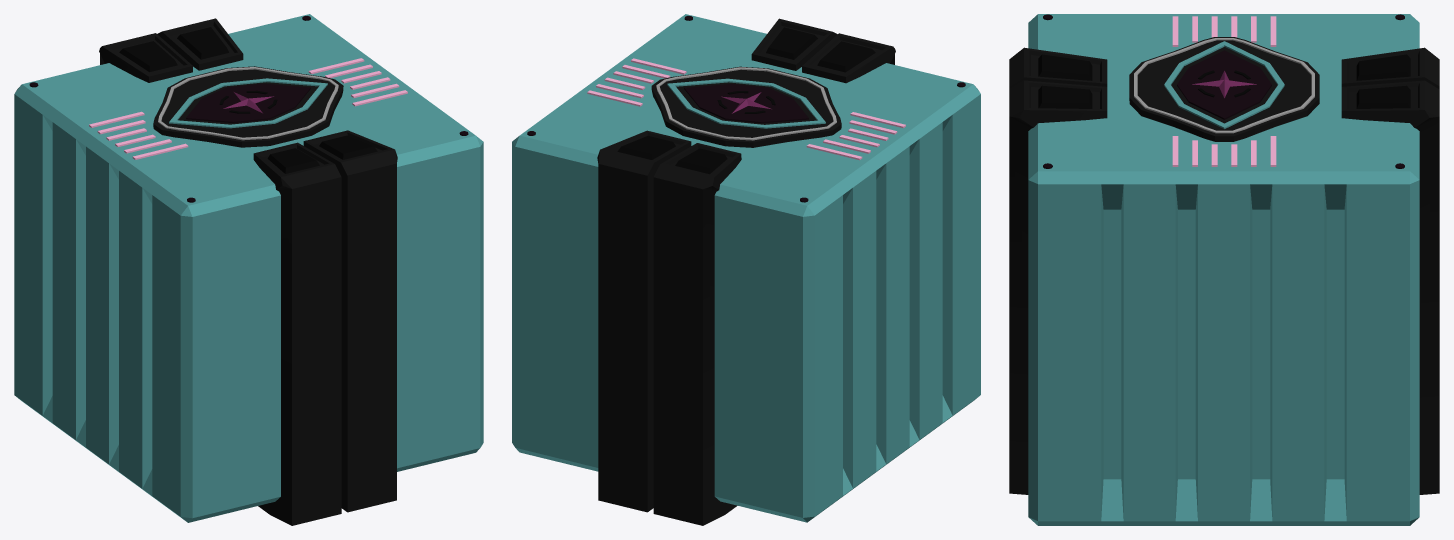
The model's file is st2_ground_plus.fbx.
The picture shows the model from 3 angles, left to right: view 1: azimuth 30°, elevation 25°; view 2: azimuth 150°, elevation 25°; view 3: azimuth 270°, elevation 25°; orthographic projection. The views are drawn at different scales.
Parts seen in each view (by area): view 1: stage2_floor_gimmik_floor3; view 2: stage2_floor_gimmik_floor3; view 3: stage2_floor_gimmik_floor3.
Part boxes in pixels (box(x1,y1,x2,y2)): stage2_floor_gimmik_floor3: box(14, 14, 483, 525); stage2_floor_gimmik_floor3: box(512, 14, 980, 525); stage2_floor_gimmik_floor3: box(1009, 14, 1439, 525).
Size of the model in its own units: 200 by 218 by 220.
